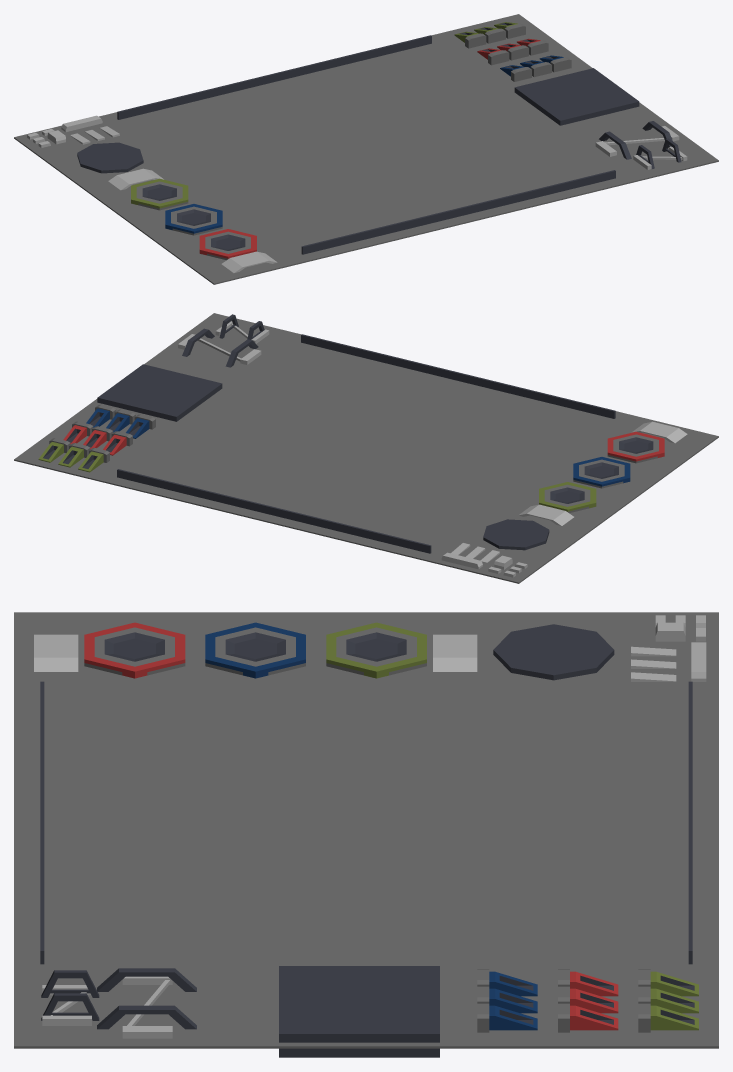
Rendered from panel_noarrows.glb.
The picture shows the model from 3 angles, top to bottom: view 1: azimuth 30°, elevation 25°; view 2: azimuth 150°, elevation 25°; view 3: azimuth 270°, elevation 25°; orthographic projection. The views are drawn at different scales.
Parts seen in each view (by area): view 1: block (×4), engine_turbineLarge% (×3), cylinderVertex, gear_barsEnforced, detail_panelsC, gear_bars, gear_half, detail_panelsB; view 2: block (×4), engine_turbineLarge% (×3), engine_slant% (×5), cylinderVertex, gear_barsEnforced, detail_panelsC, gear_bars, detail_panelsB, gear_half; view 3: block (×4), engine_turbineLarge% (×3), engine_slant% (×9), cylinderVertex, gear_barsEnforced (×2), gear_half (×2), gear_bars, detail_panelsC, detail_panelsB.
Part boxes in pixels (x1,y1,x2,y2): block (×4): [14, 14, 718, 284]; engine_turbineLarge% (×3): [131, 178, 256, 260]; cylinderVertex: [77, 142, 143, 173]; gear_barsEnforced: [108, 168, 277, 272]; detail_panelsC: [61, 115, 119, 144]; gear_bars: [599, 121, 672, 159]; gear_half: [595, 126, 679, 156]; detail_panelsB: [27, 128, 65, 147]; block (×4): [14, 313, 718, 583]; engine_turbineLarge% (×3): [539, 431, 664, 513]; engine_slant% (×5): [38, 414, 155, 472]; cylinderVertex: [483, 519, 549, 550]; gear_barsEnforced: [518, 421, 687, 525]; detail_panelsC: [441, 543, 499, 569]; gear_bars: [182, 328, 258, 367]; detail_panelsB: [488, 555, 527, 577]; gear_half: [178, 334, 261, 364]; block (×4): [14, 612, 718, 1057]; engine_turbineLarge% (×3): [84, 622, 426, 678]; engine_slant% (×9): [477, 969, 698, 1032]; cylinderVertex: [493, 624, 614, 680]; gear_barsEnforced (×2): [34, 634, 477, 1020]; gear_half (×2): [42, 976, 172, 1038]; gear_bars: [97, 968, 196, 1029]; detail_panelsC: [631, 642, 706, 681]; detail_panelsB: [655, 615, 705, 641].
Bounding box in the file's own units: 51 × 2.2 × 35.
